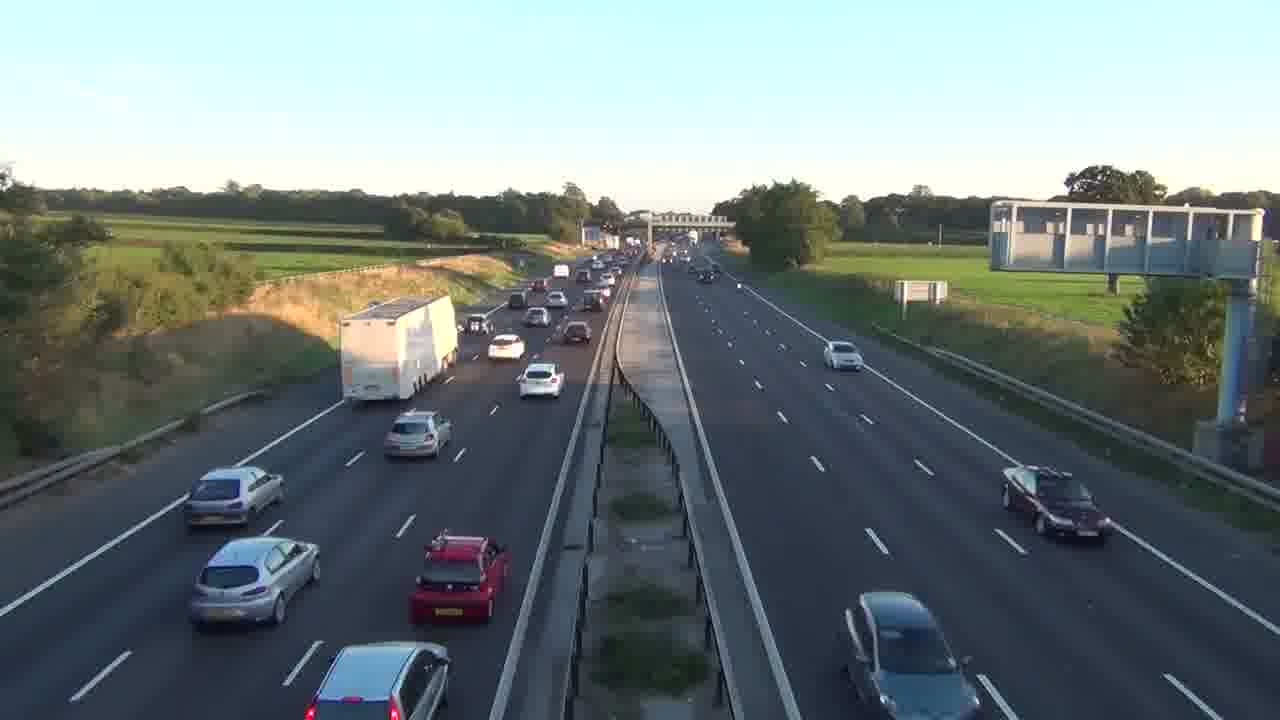car: (188, 536, 322, 629), (303, 640, 452, 719), (183, 464, 286, 530), (384, 410, 453, 460), (517, 362, 564, 399), (823, 340, 863, 373), (560, 321, 592, 343), (524, 306, 551, 326)
truck: (339, 296, 458, 404), (407, 528, 512, 625), (1001, 463, 1110, 543)
